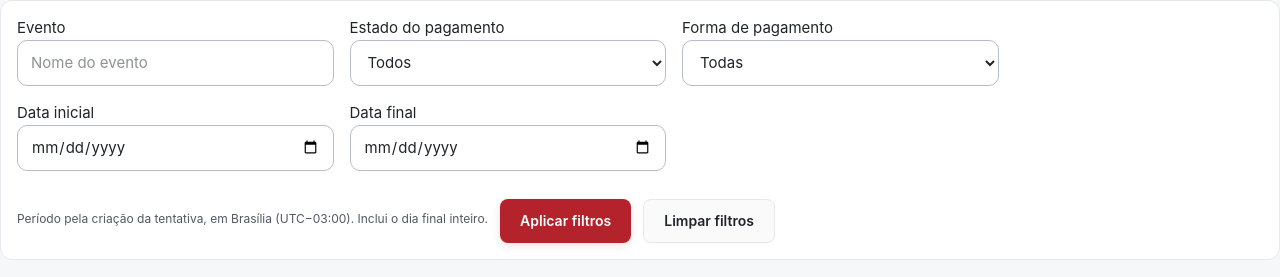
Test: Filtros financeiros › aplica somente no envio e limpa rascunho e filtros
The width and height of the screenshot is (1280, 277).
Type "Jornada" into the field labelled "Evento".
click(175, 63); type("Jornada")  # box top-left (17, 40), bottom-right (334, 86)
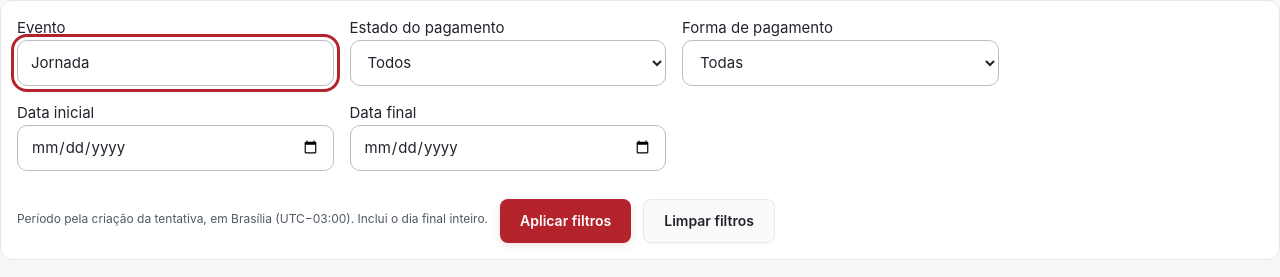
Select "Cartão" in the dropdown labelled "Forma de pagamento" at (840, 62), box top-left (682, 40), bottom-right (998, 86)
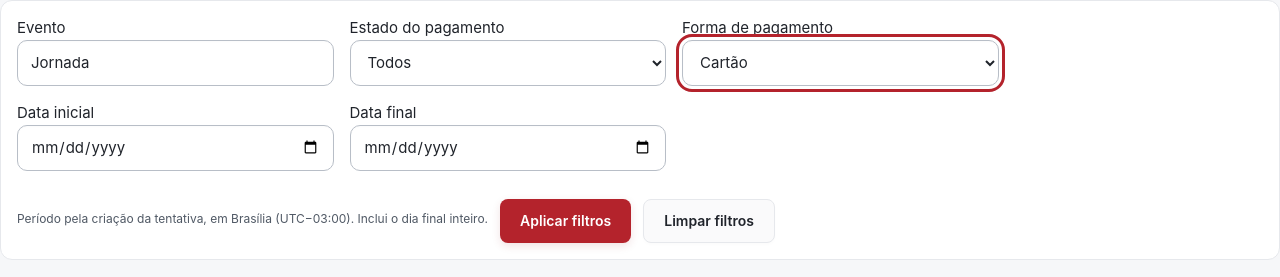
Select "Aprovado" in the dropdown labelled "Estado do pagamento" at (508, 62), box top-left (350, 40), bottom-right (666, 86)
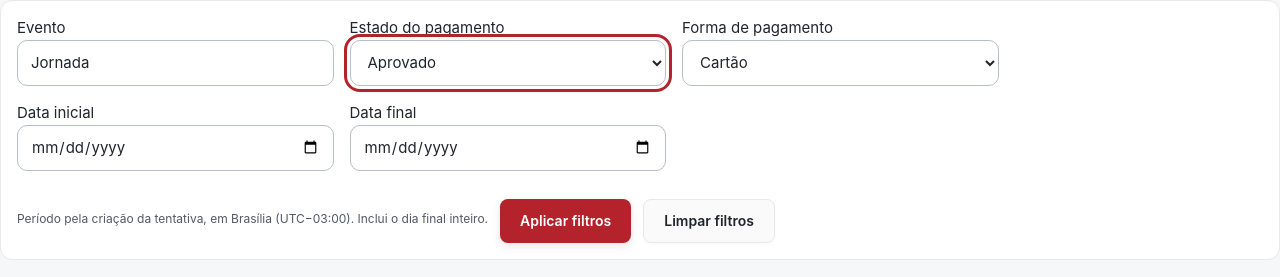
Click the button "Aplicar filtros".
click(566, 221)  # box top-left (500, 199), bottom-right (631, 243)
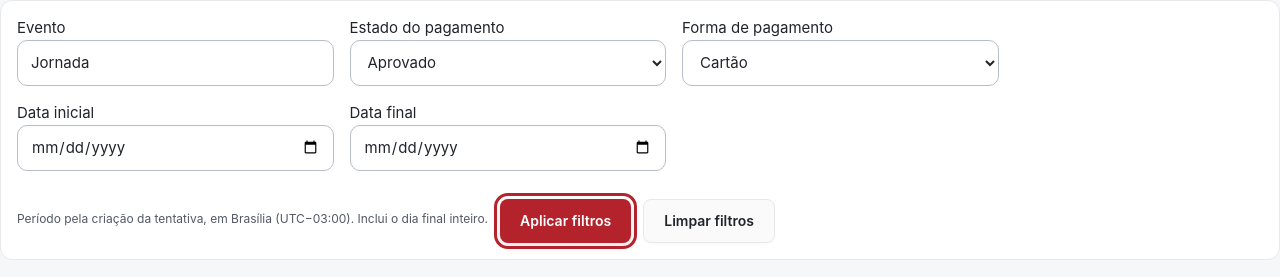
Click the button "Limpar filtros".
click(709, 221)  # box top-left (643, 199), bottom-right (775, 243)
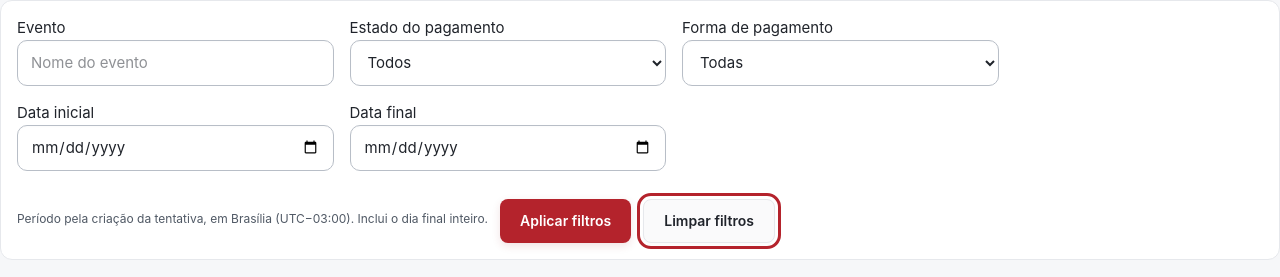
Expected: the field labelled "Evento" is empty, top-left (17, 40), bottom-right (334, 86)
